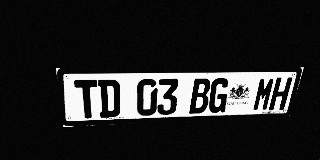0: (137, 79, 158, 116)
3: (157, 79, 179, 115)
B: (189, 78, 212, 114)
D: (98, 79, 120, 118)
G: (207, 78, 231, 113)
H: (268, 77, 293, 110)
M: (252, 77, 276, 111)
T: (74, 80, 99, 119)
